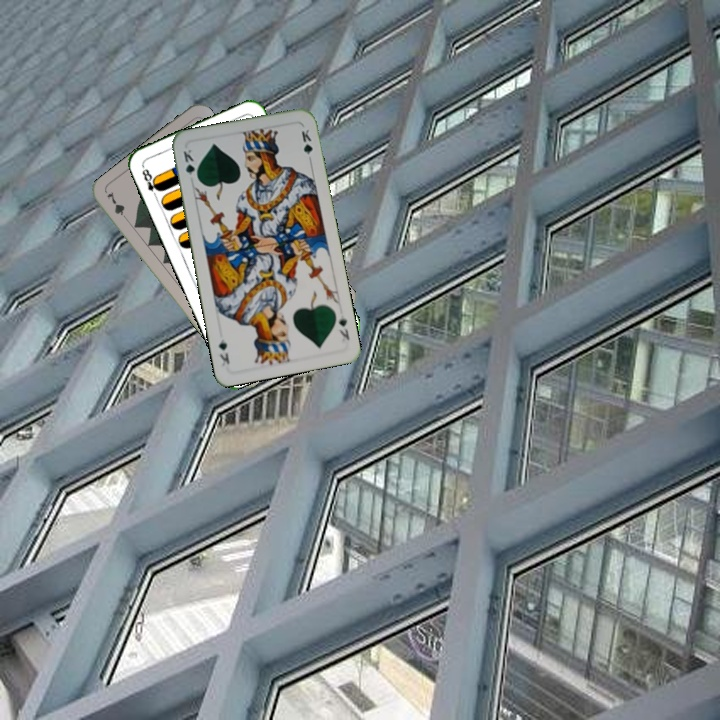E8: (138, 162, 163, 201)
G7: (102, 188, 132, 225)
GK: (179, 145, 201, 183), (334, 311, 352, 343)
